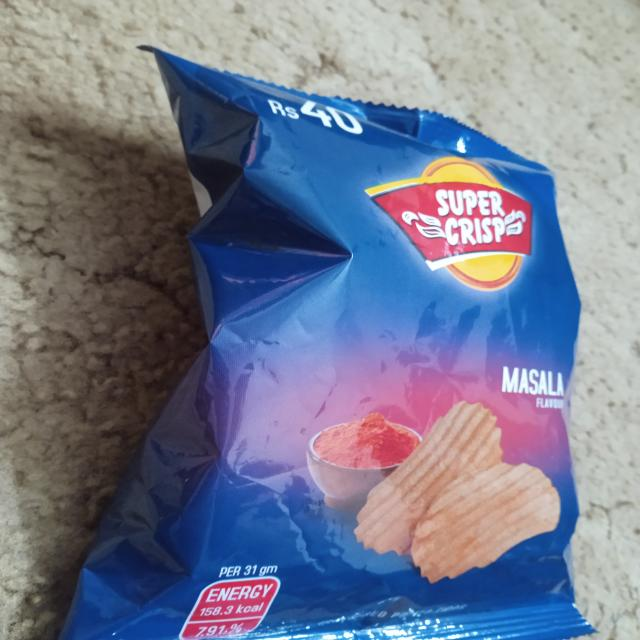Plastic: (51, 37, 640, 640)
